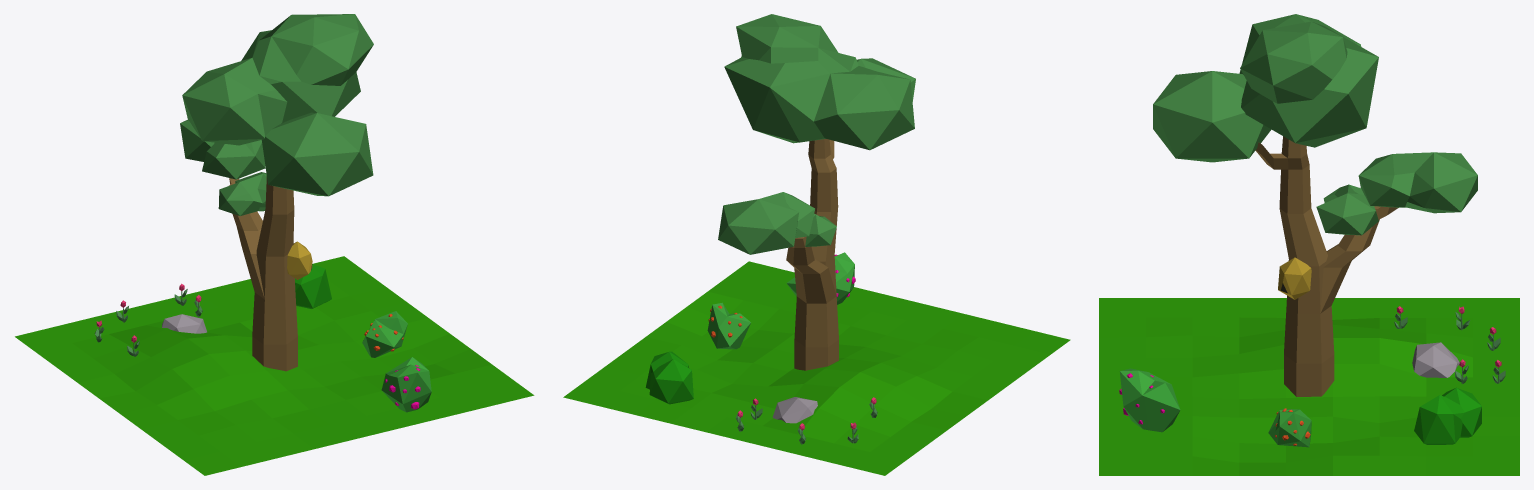
Rendered from MEADOW_FIELD02.fbx.
3 renders of one model, left to right at view 1: azimuth 30°, elevation 25°; view 2: azimuth 150°, elevation 25°; view 3: azimuth 270°, elevation 25°, orthographic. The views are drawn at different scales.
Parts seen in each view (by area): view 1: Icosphere.001; view 2: Icosphere.001; view 3: Icosphere.001.
Part boxes in pixels (x1,y1,x2,y2): Icosphere.001: (15, 14, 534, 475); Icosphere.001: (563, 14, 1070, 475); Icosphere.001: (1099, 14, 1519, 475).
Bounding box in the file's own units: 1000 × 1018 × 1000.
